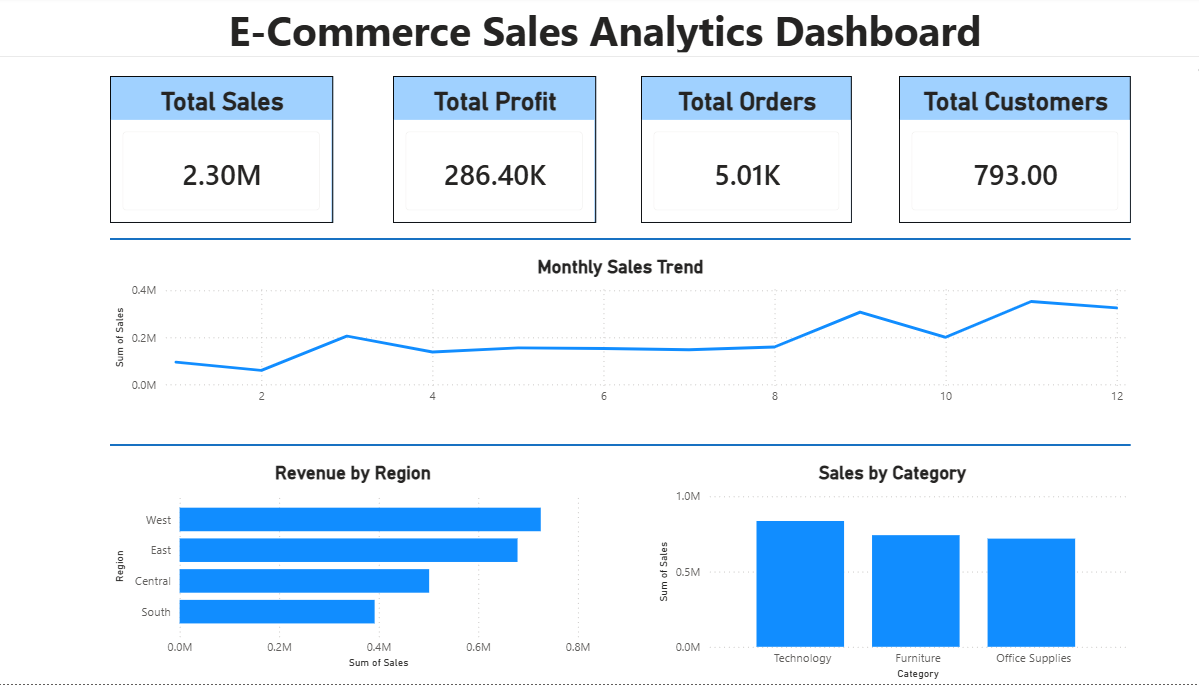

Layout of this report page (visuals, bound fields, positions):
{"tool":"powerbi","page":{"name":"Executive Dashboard","canvas":[1280,720],"ordinal":0},"visuals":[{"type":"textbox","box":[0,0,1280,62.9],"z":0},{"type":"cardVisual","title":"Total Sales","fields":{"Data":["Sum(kpis.Value)"]},"box":[117.4,82.8,233.8,154.1],"z":1000},{"type":"cardVisual","title":"Total Profit","fields":{"Data":["Sum(kpis.Value)"]},"box":[414.1,82.8,212.8,154.1],"z":2000},{"type":"cardVisual","title":"Total Orders","fields":{"Data":["Sum(kpis.Value)"]},"box":[674.1,82.8,221.2,154.1],"z":3000},{"type":"cardVisual","title":"Total Customers","fields":{"Data":["Sum(kpis.Value)"]},"box":[944.5,82.8,243.2,154.1],"z":4000},{"type":"lineChart","title":"Monthly Sales Trend","fields":{"Category":["monthly_sales.Month"],"Y":["Sum(monthly_sales.Sales)"]},"box":[117.4,271.5,1070.3,164.6],"z":5000},{"type":"clusteredBarChart","title":"Revenue by Region","fields":{"Category":["region_sales.Region"],"Y":["Sum(region_sales.Sales)"]},"box":[117.4,487.5,509.5,221.2],"z":6000},{"type":"clusteredColumnChart","title":"Sales by Category","fields":{"Category":["category_sales.Category"],"Y":["Sum(category_sales.Sales)"]},"box":[687.7,487.5,500,232.7],"z":7000},{"type":"shape","box":[117.4,247.4,1070.3,12.6],"z":8000},{"type":"shape","box":[117.4,463.4,1070.3,12.6],"z":9000}]}

Visuals, with their boxes in screenshot pixels (x1, y1, x2, y2), scaled from the page's 1280x720 canvas onto the 1199x685 screenshot:
textbox: box=[0, 0, 1198, 60]
"Total Sales" cardVisual: box=[110, 79, 329, 225]
"Total Profit" cardVisual: box=[388, 79, 587, 225]
"Total Orders" cardVisual: box=[631, 79, 839, 225]
"Total Customers" cardVisual: box=[885, 79, 1113, 225]
"Monthly Sales Trend" lineChart: box=[110, 258, 1113, 415]
"Revenue by Region" clusteredBarChart: box=[110, 464, 587, 674]
"Sales by Category" clusteredColumnChart: box=[644, 464, 1113, 684]
shape: box=[110, 235, 1113, 247]
shape: box=[110, 441, 1113, 453]
